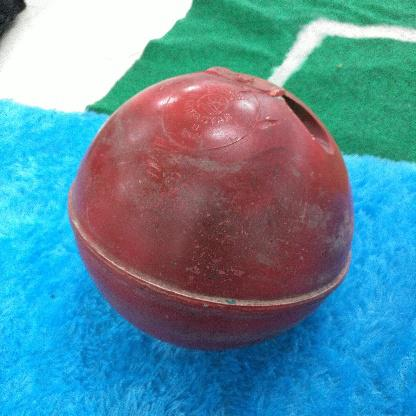red_buoy: (68, 66, 358, 347)
